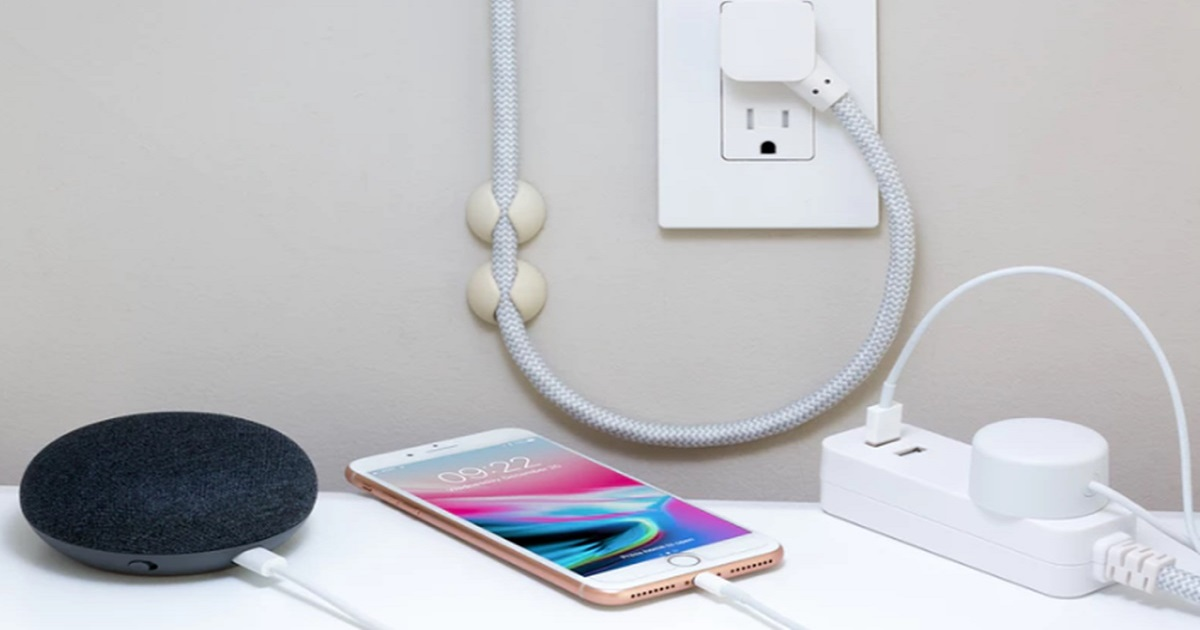Three_eye_plug: (817, 410, 1149, 604)
